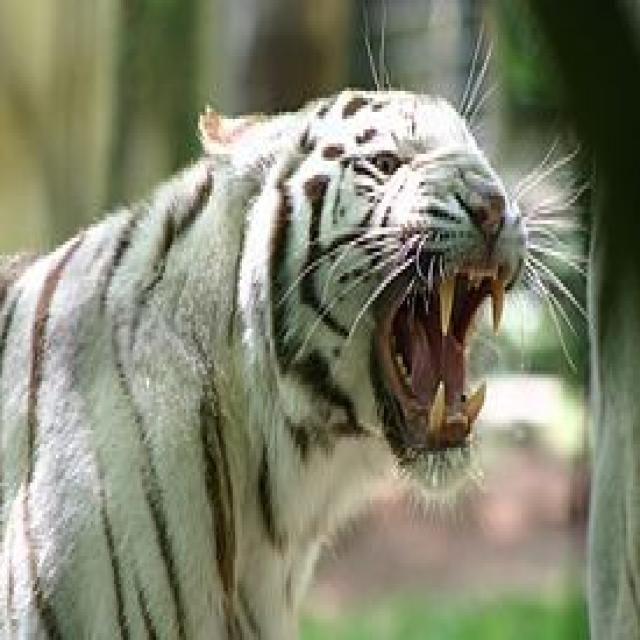Carnivorous: (0, 87, 531, 640)
